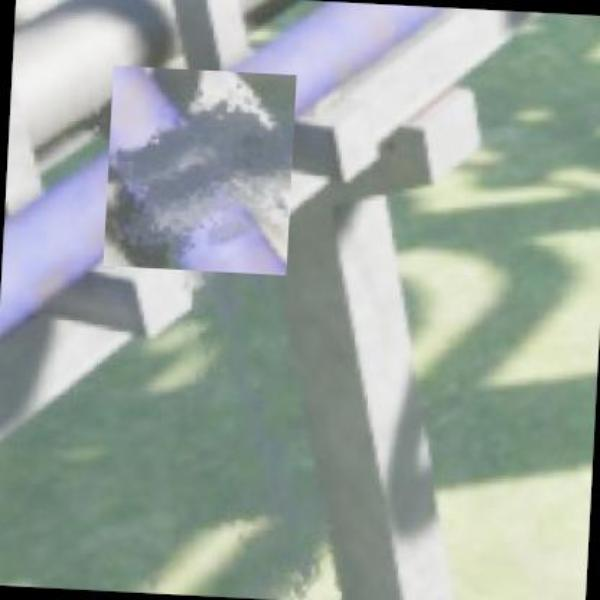gas: (103, 76, 282, 258)
